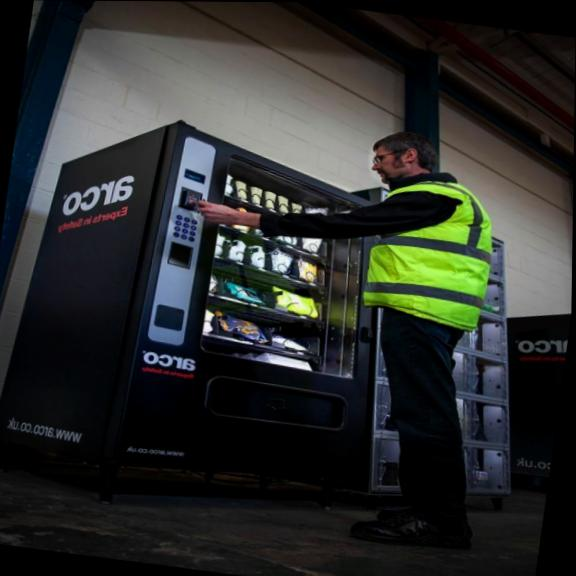safety_vest: (345, 167, 510, 341)
